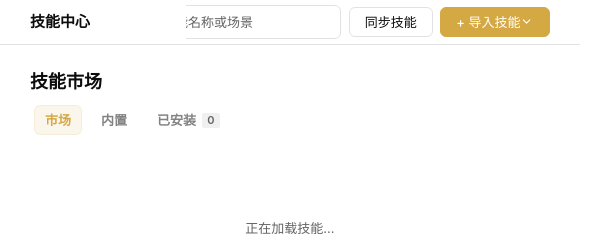
Test: SkillCenterPage › 未命中图标时使用主题强调色 fallback
Click the button "内置" at x=114, y=120, box left=90, top=105, right=138, bottom=135
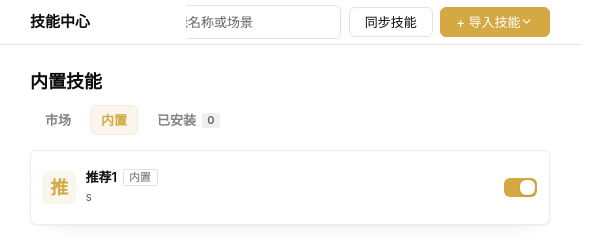
Expected: the text with test id "skill-card-fallback-avatar" reads "推", left=50, top=176, right=68, bottom=198
